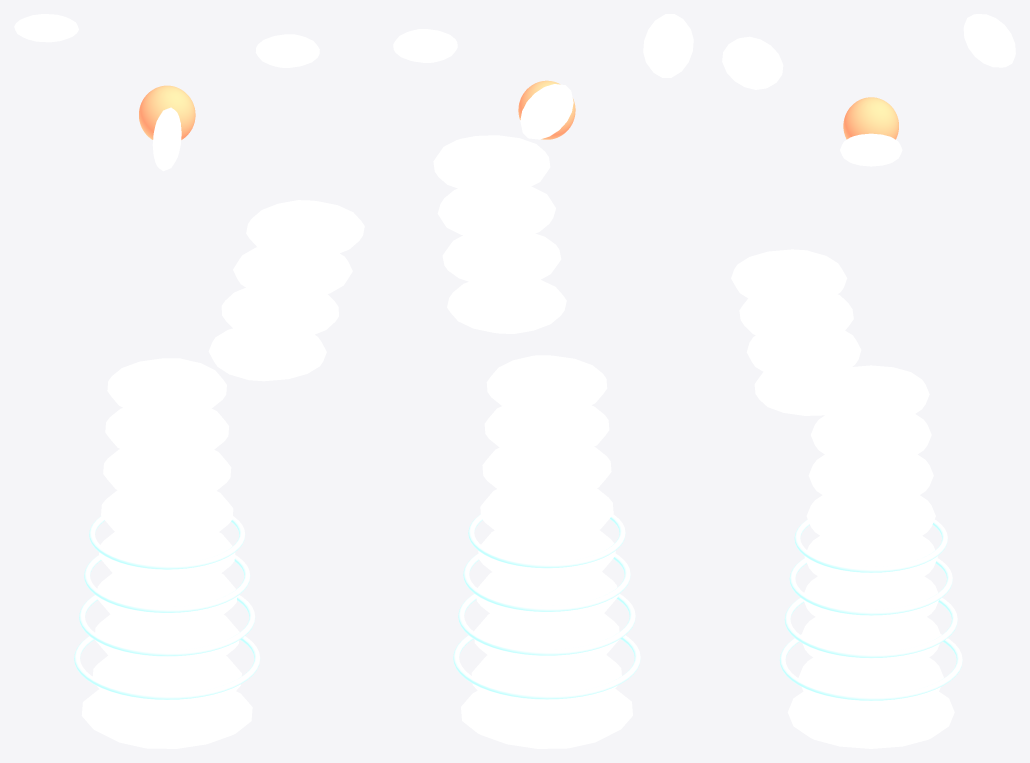
Rendered from v3_new_stack_overflow_v3.glb.
3 renders of one model, left to right at view 1: azimuth 30°, elevation 25°; view 2: azimuth 150°, elevation 25°; view 3: azimuth 270°, elevation 25°, orthographic. The views are drawn at different scales.
Visible parts, largest first — view 1: so_base, so_frame_7, so_frame_11, so_frame_4, so_frame_0, so_frame_5, so_frame_1, so_frame_6, so_frame_2, so_frame_3, so_frame_10, so_frame_9 (+9 smaller); view 2: so_base, so_frame_7, so_frame_11, so_frame_4, so_frame_0, so_frame_5, so_frame_1, so_frame_8, so_frame_9, so_frame_10, so_frame_6, so_frame_2 (+9 smaller); view 3: so_base, so_frame_11, so_frame_4, so_frame_0, so_frame_5, so_frame_1, so_frame_6, so_frame_2, so_frame_3, so_frame_8, so_frame_10, so_frame_9 (+9 smaller).
Part boxes in pixels (x1,y1,x2,y2): so_base: (81,689,252,748); so_frame_7: (107,358,226,417); so_frame_11: (246,200,364,259); so_frame_4: (101,490,233,543); so_frame_0: (93,655,241,712); so_frame_5: (103,449,231,501); so_frame_1: (95,614,239,670); so_frame_6: (105,408,228,459); so_frame_2: (96,573,237,628); so_frame_3: (99,531,235,585); so_frame_10: (233,247,352,300); so_frame_9: (221,288,338,340); so_base: (461,689,632,748); so_frame_7: (486,355,607,415); so_frame_11: (433,135,550,193); so_frame_4: (480,488,613,542); so_frame_0: (471,655,621,712); so_frame_5: (482,447,611,499); so_frame_1: (474,613,619,669); so_frame_8: (447,280,566,333); so_frame_9: (442,233,561,287); so_frame_10: (437,187,555,240); so_frame_6: (484,405,609,457); so_frame_2: (476,571,617,627); so_base: (787,691,954,748); so_frame_11: (731,249,847,307); so_frame_4: (806,495,935,547); so_frame_0: (798,657,943,713); so_frame_5: (808,454,933,506); so_frame_1: (801,617,940,671); so_frame_6: (811,414,931,464); so_frame_2: (803,576,938,630); so_frame_3: (804,536,937,588); so_frame_8: (754,367,868,415); so_frame_10: (739,294,853,342); so_frame_9: (746,331,861,379).
Size of the model in its own units: 1.07 by 2.98 by 1.18.
